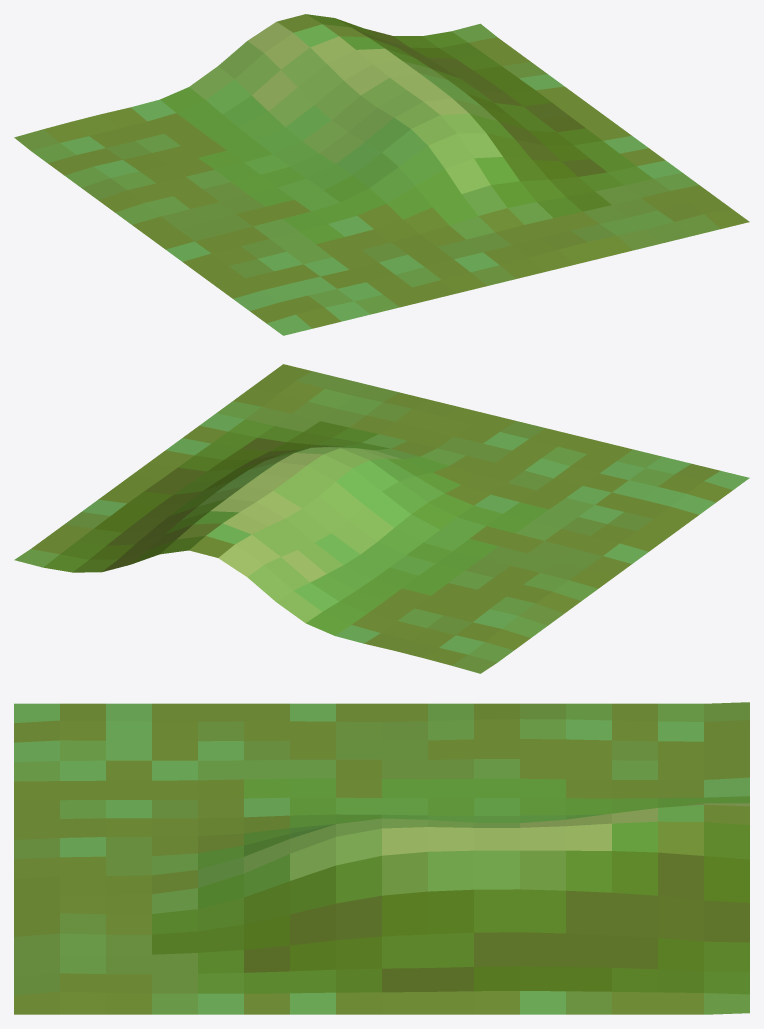
The model's file is hills1.obj.
3 views of the same model, one above another, from view 1: azimuth 30°, elevation 25°; view 2: azimuth 150°, elevation 25°; view 3: azimuth 270°, elevation 25° (orthographic). The views are drawn at different scales.
Visible parts, largest first — view 1: Grid.015; view 2: Grid.015; view 3: Grid.015.
Part boxes in pixels (x1,y1,x2,y2): Grid.015: (14, 14, 749, 335); Grid.015: (14, 364, 749, 673); Grid.015: (14, 702, 749, 1014).
Bounding box in the file's own units: 1 × 0.1146 × 1.
1 material, 1 textured.
